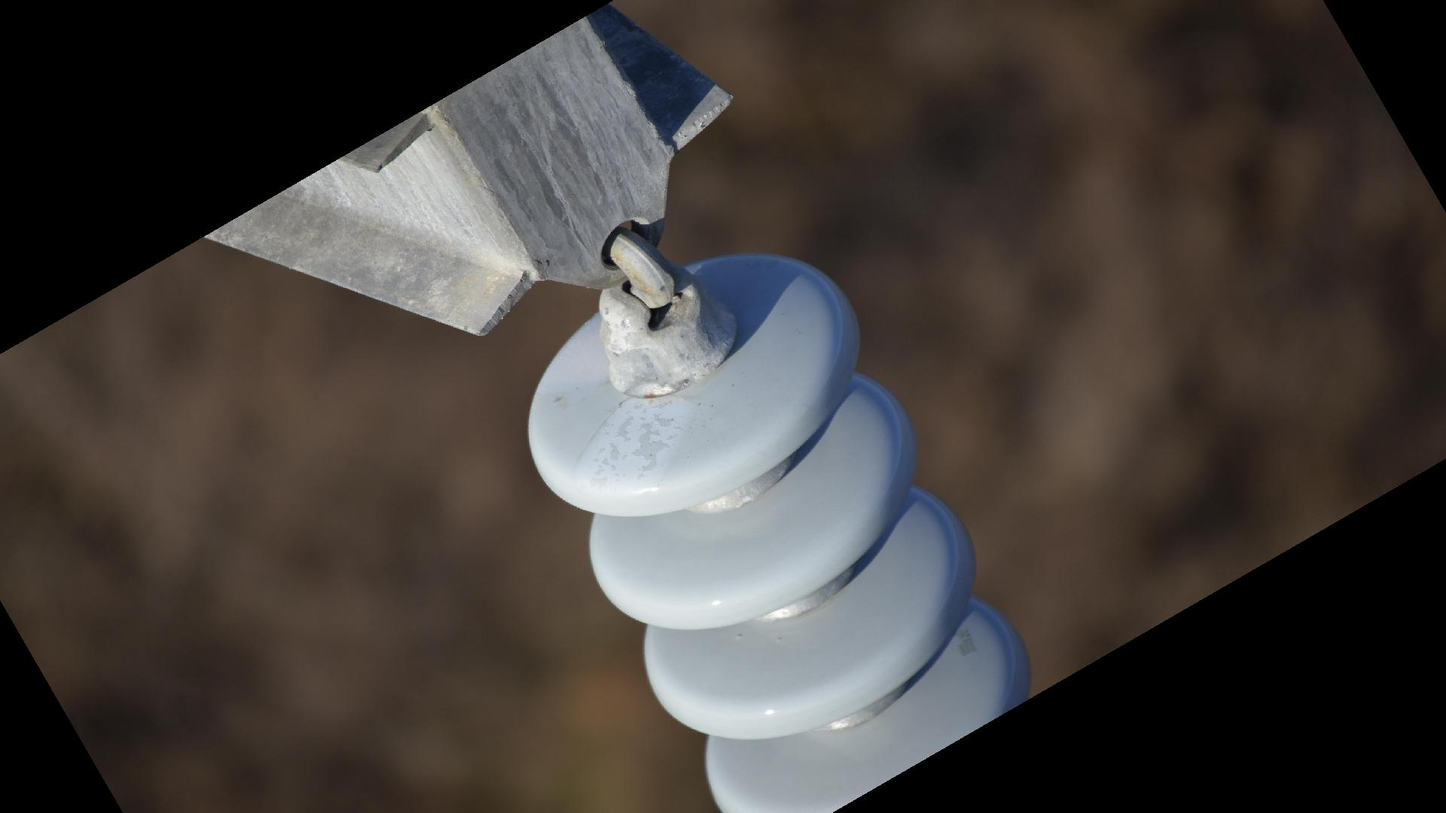insulator: (522, 246, 1043, 813)
insulator_flashover: (559, 379, 694, 518)
